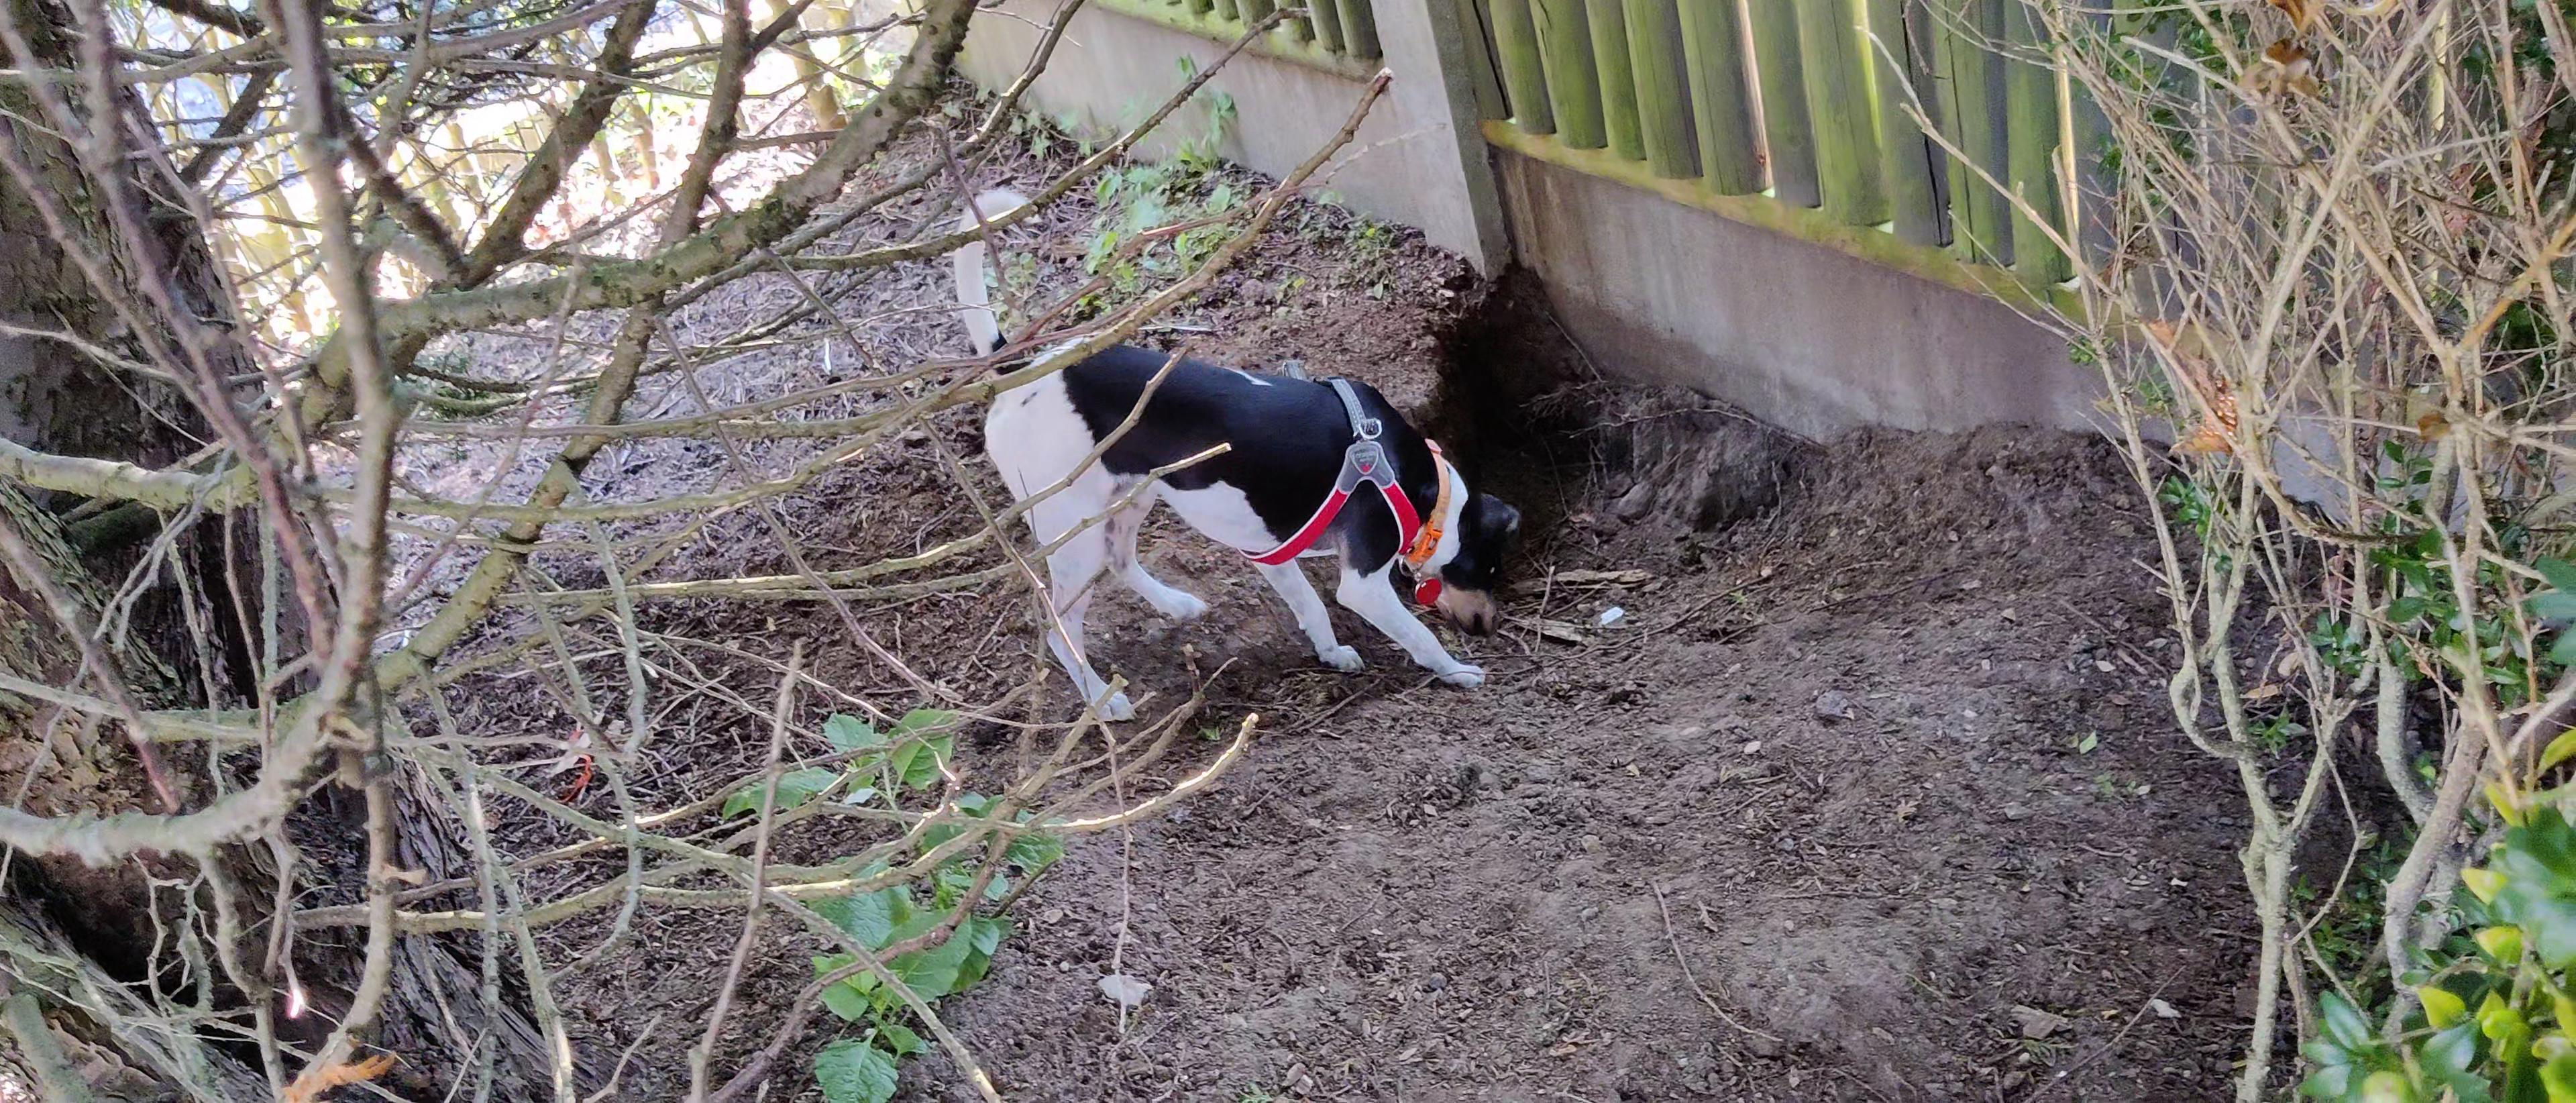Dog: (915, 179, 1544, 735)
